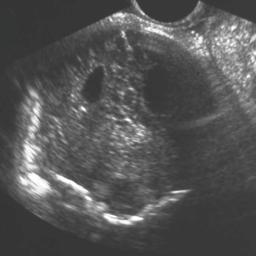abnormal: (16, 32, 227, 227)
